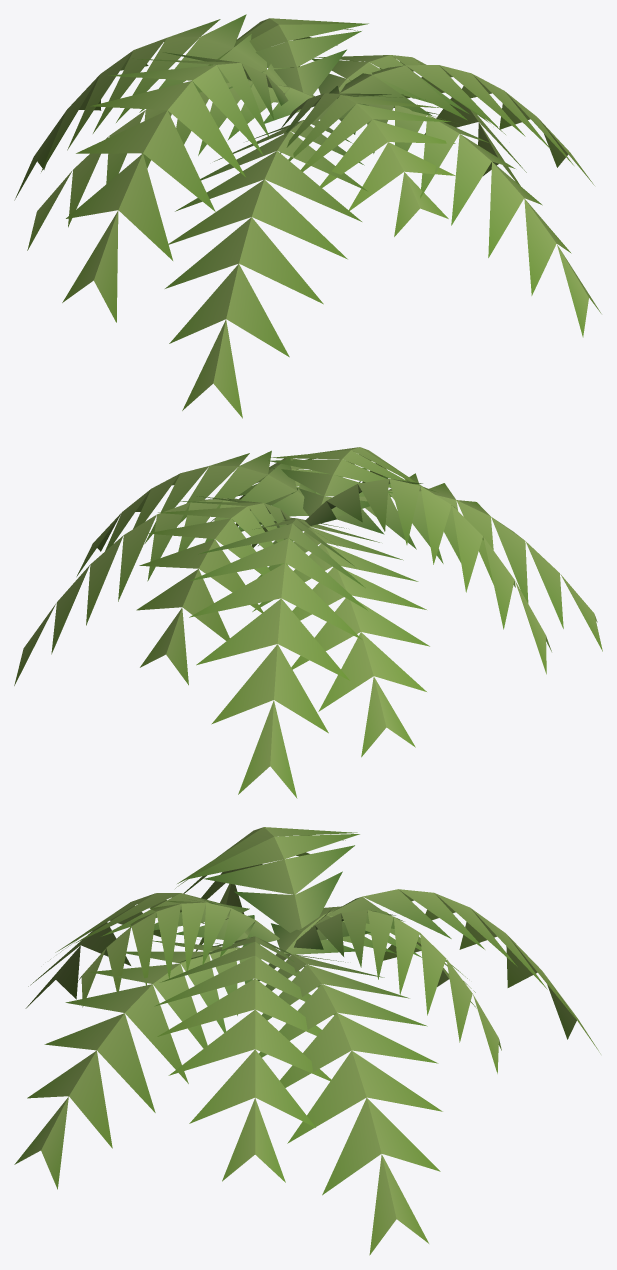
File: fern_b.glb
3 views of the same model, one above another, from view 1: azimuth 30°, elevation 25°; view 2: azimuth 150°, elevation 25°; view 3: azimuth 270°, elevation 25° (orthographic). The views are drawn at different scales.
Parts seen in each view (by area): view 1: fern_b_leaf; view 2: fern_b_leaf; view 3: fern_b_leaf.
Boxes of the visible parts, <box> form: fern_b_leaf: <box>14,14,601,418</box>; fern_b_leaf: <box>14,447,602,798</box>; fern_b_leaf: <box>14,827,600,1255</box>.
Bounding box in the file's own units: 1.01 × 0.474 × 1.01.
